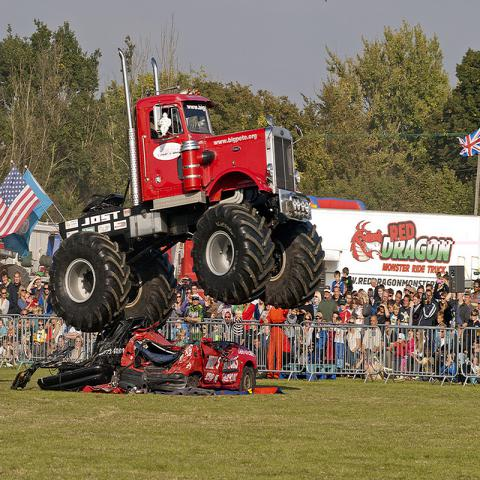car: (87, 318, 256, 394)
truck: (43, 15, 336, 339)
